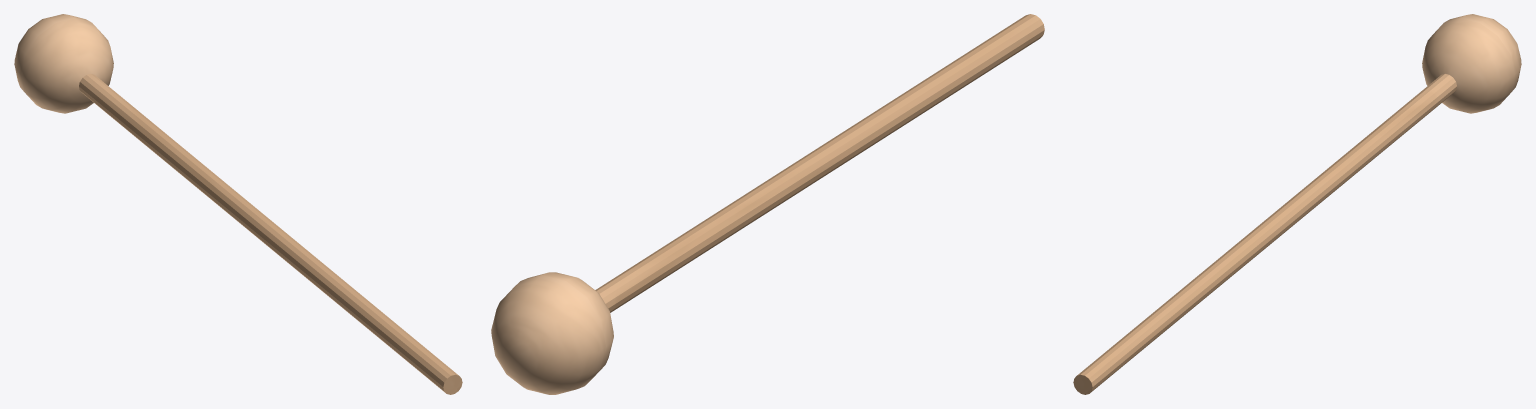
Rendered from mallet.gltf.
3 views of the same model, side by side, from view 1: azimuth 30°, elevation 25°; view 2: azimuth 150°, elevation 25°; view 3: azimuth 330°, elevation 25° (orthographic). The views are drawn at different scales.
Visible parts, largest first — view 1: xylophone4; view 2: xylophone4; view 3: xylophone4.
Part boxes in pixels (bbox=[...]): xylophone4: bbox=[14, 14, 462, 394]; xylophone4: bbox=[491, 14, 1044, 394]; xylophone4: bbox=[1073, 14, 1521, 394].
Size of the model in its own units: 0.0316 by 0.0315 by 0.2623.
Materials: 1 (1 with a texture image).
